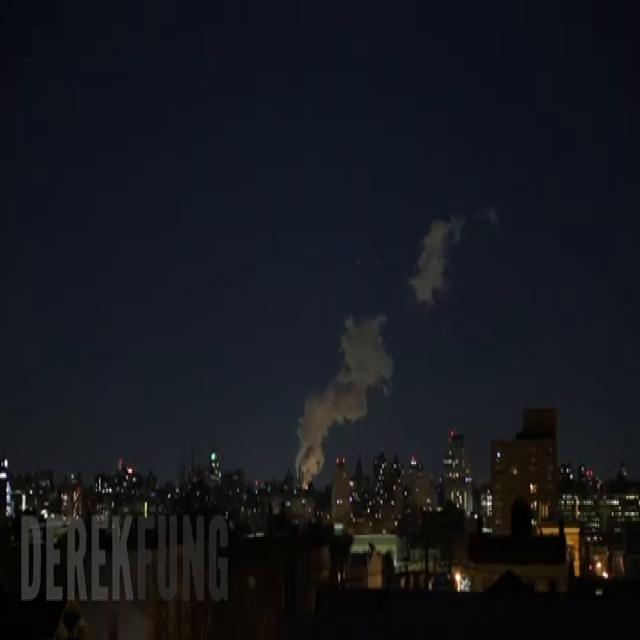smoke: (295, 315, 394, 489), (409, 220, 463, 302)
